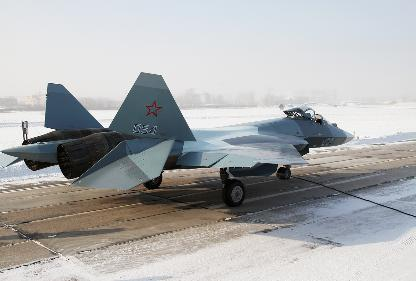SR71: (0, 71, 354, 206)
